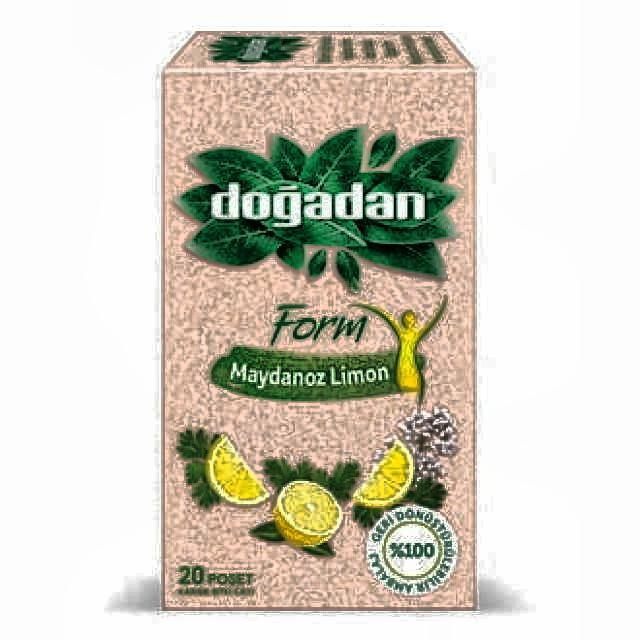cardboard: (157, 29, 479, 614)
